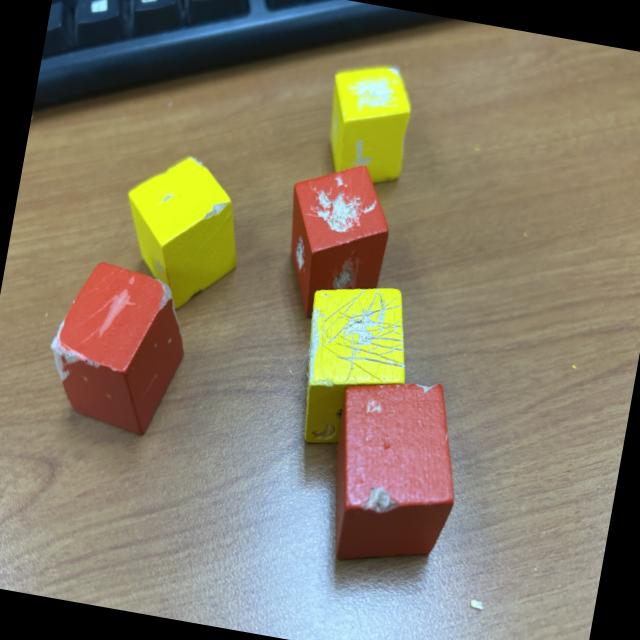broken: (314, 367, 474, 579), (36, 254, 198, 441), (109, 146, 254, 320), (287, 274, 422, 458), (270, 153, 400, 330), (315, 56, 420, 190)
